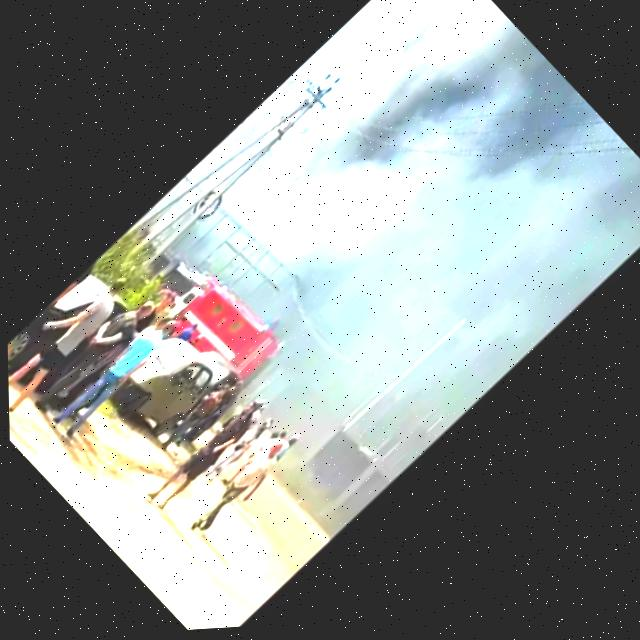Smoke: (142, 0, 640, 517)
